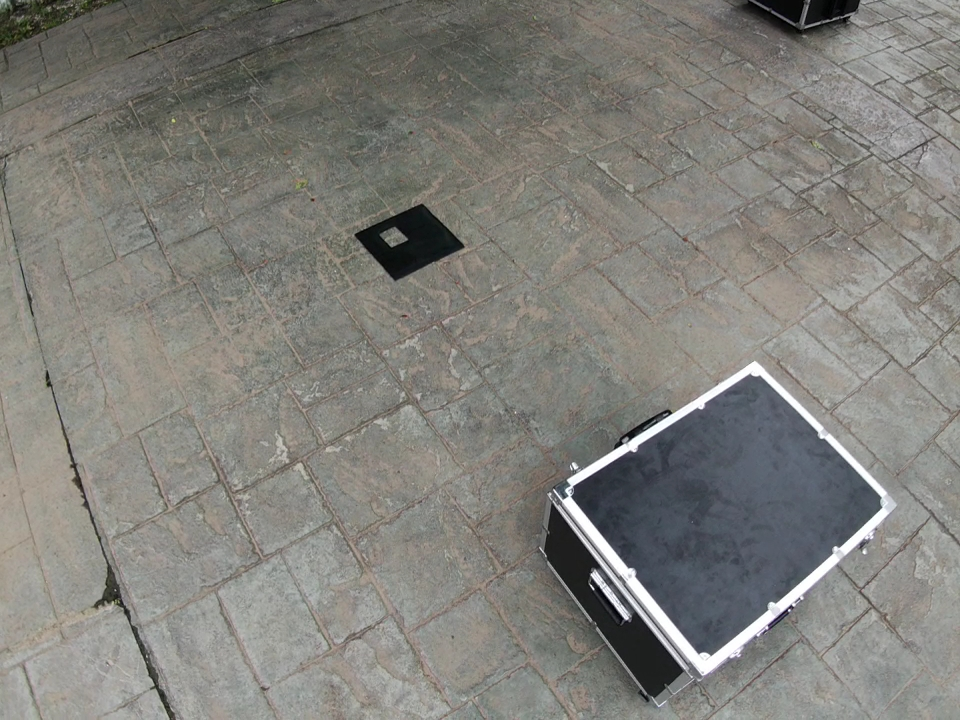box: (541, 362, 898, 708)
qrcode: (354, 204, 465, 282)
